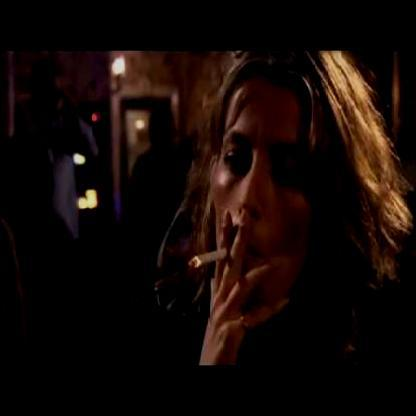cigarette: (185, 247, 232, 270)
person: (174, 49, 384, 375)
